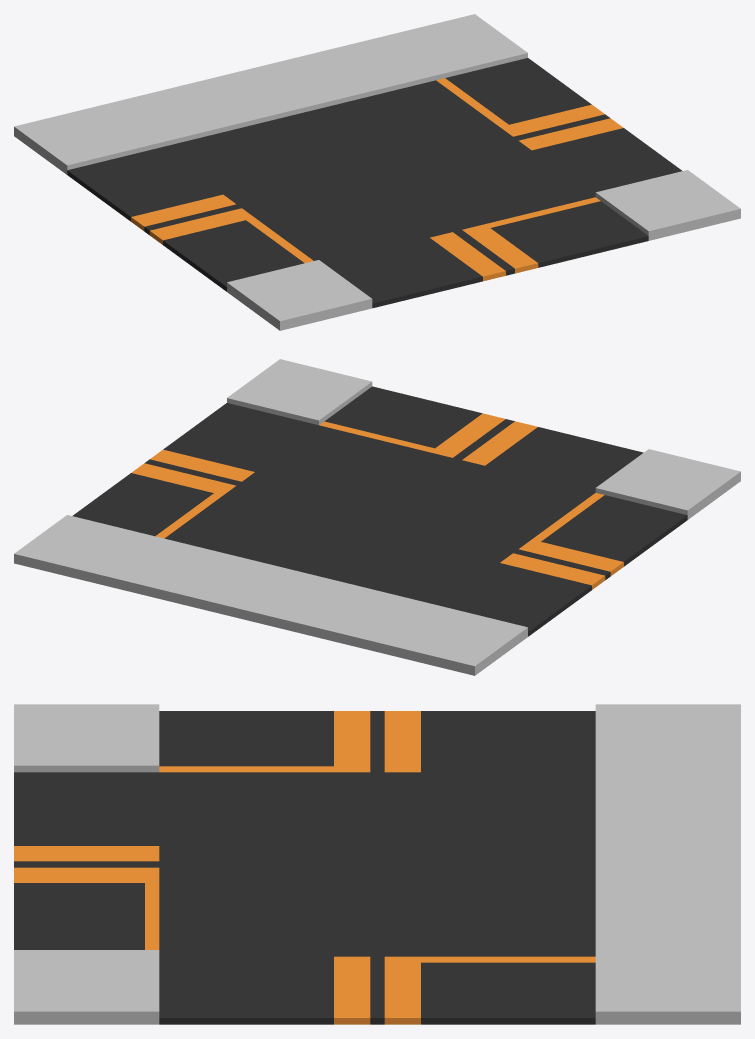
Rendered from Road_ThreeWay.fbx.
3 views of the same model, one above another, from view 1: azimuth 30°, elevation 25°; view 2: azimuth 150°, elevation 25°; view 3: azimuth 270°, elevation 25° (orthographic). The views are drawn at different scales.
Parts seen in each view (by area): view 1: ThreeWay; view 2: ThreeWay; view 3: ThreeWay.
Boxes of the visible parts, x1,y1,x2,y2 form: ThreeWay: (14, 14, 740, 330); ThreeWay: (14, 359, 740, 675); ThreeWay: (14, 704, 740, 1024).
Bounding box in the file's own units: 100 × 2 × 100.
1 material, 1 textured.
